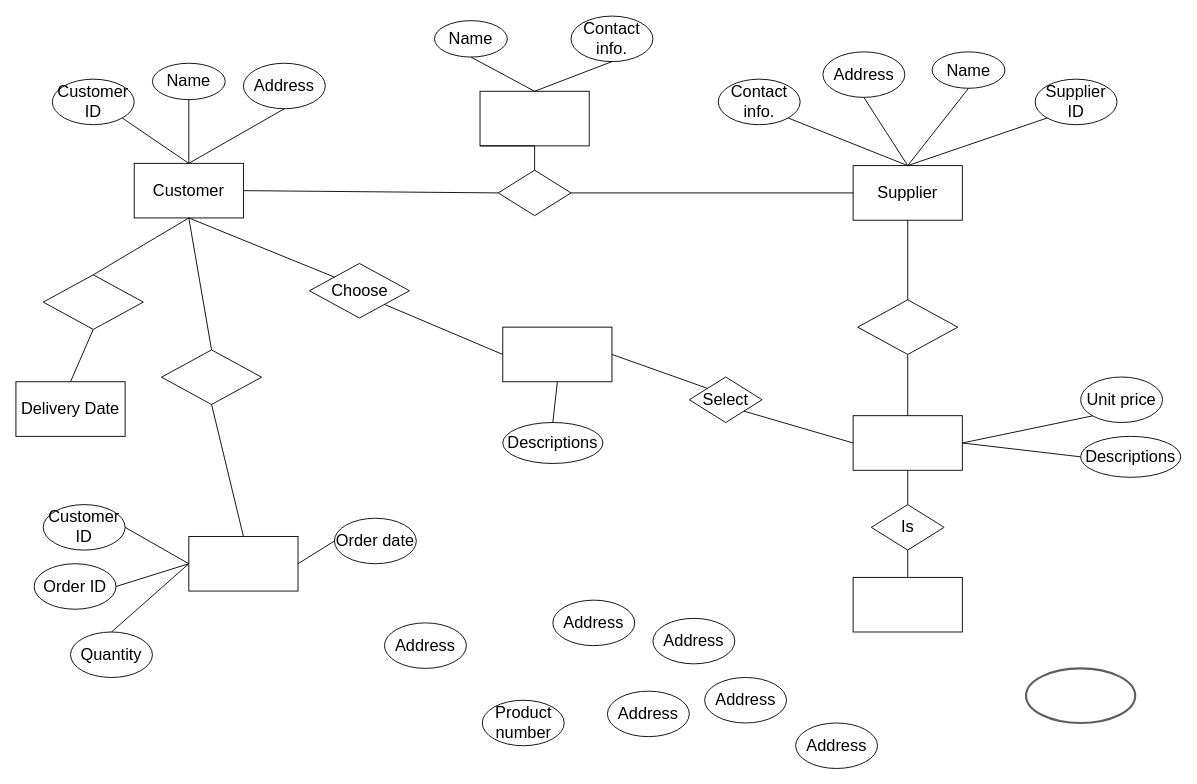
Some shapes in this 1197 by 784 pixel diagram are drawn without their labels. The box of each missing label's shape, as (x1, y1, x2, y2) in pixels:
Gift: (852, 576, 962, 632)
Has: (497, 169, 571, 216)
Ocassion: (502, 326, 612, 382)
Online shop: (479, 90, 589, 146)
Orders: (188, 536, 298, 591)
Place a note: (1025, 667, 1136, 724)
Placed: (161, 349, 262, 404)
Prepared: (857, 299, 958, 354)
Product: (852, 415, 962, 470)
Set: (42, 274, 143, 329)
